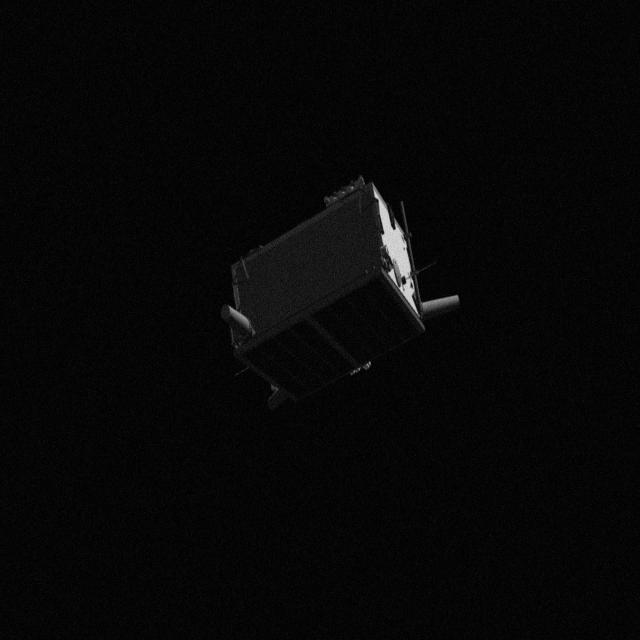medium_debris: (214, 170, 466, 428)
